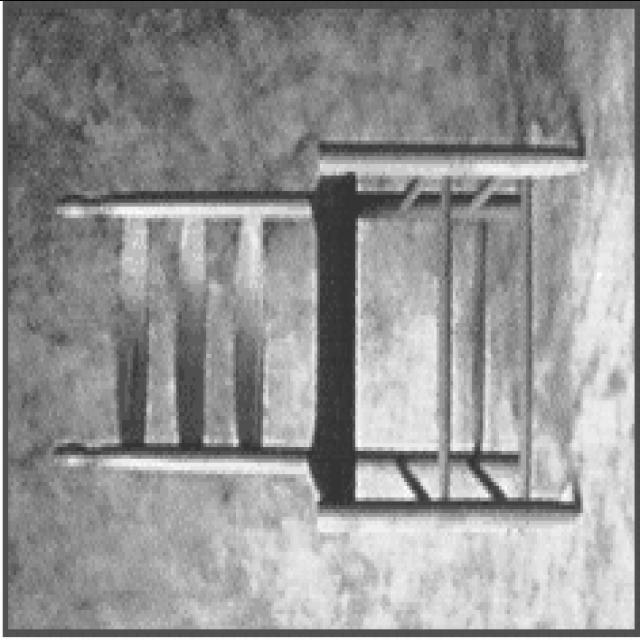chair: (51, 141, 583, 535)
